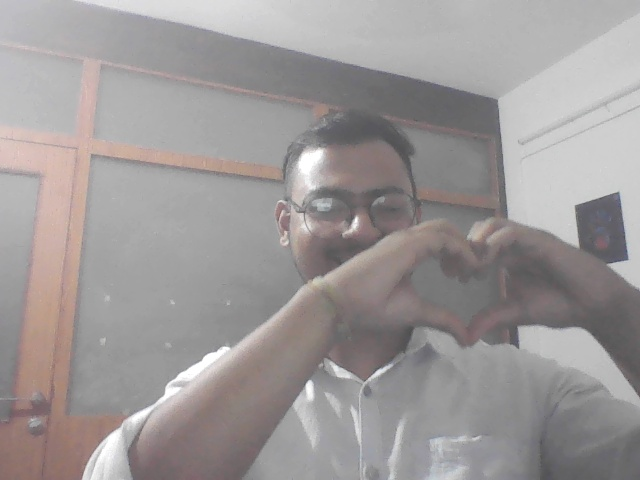Heart: (359, 215, 586, 352)
